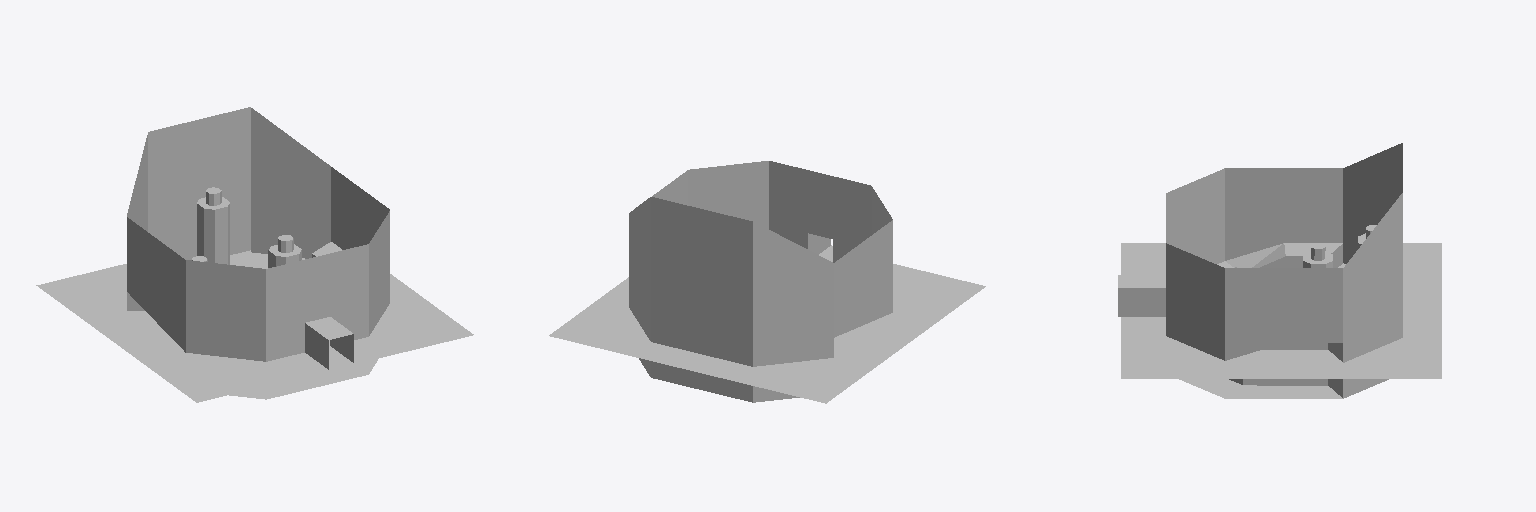
Rendered from BossRoom.obj.
The picture shows the model from 3 angles: view 1: azimuth 30°, elevation 25°; view 2: azimuth 150°, elevation 25°; view 3: azimuth 270°, elevation 25°; orthographic projection.
Visible parts, largest first — view 1: #Ice_Plane_None_IC-0x1F650_32x64_RGBA16.png, #Ice_Plane_None_IC-0x5EC78_32x32_RGBA16.png, #NoCollision_Plane.003_None, #Stone_Plane.002_None_IC-0x10EC0_32x32_RGBA16.png, Floor_#Ice_#DoubleSided_Plane.001_None_IC-0x60398_64x64_I8.png, #Ice_Plane_None_IC-0x10EC0_32x32_RGBA16.png; view 2: #Ice_Plane_None_IC-0x1F650_32x64_RGBA16.png, #Ice_Plane_None_IC-0x5EC78_32x32_RGBA16.png, #NoCollision_Plane.003_None; view 3: #Ice_Plane_None_IC-0x1F650_32x64_RGBA16.png, #NoCollision_Plane.003_None, #Ice_Plane_None_IC-0x5EC78_32x32_RGBA16.png, #Stone_Plane.002_None_IC-0x10EC0_32x32_RGBA16.png, Floor_#Ice_#DoubleSided_Plane.001_None_IC-0x60398_64x64_I8.png.
Part boxes in pixels (bbox=[...]): #Ice_Plane_None_IC-0x1F650_32x64_RGBA16.png: bbox=[127, 107, 389, 369]; #Ice_Plane_None_IC-0x5EC78_32x32_RGBA16.png: bbox=[127, 167, 389, 361]; #NoCollision_Plane.003_None: bbox=[36, 253, 473, 402]; #Stone_Plane.002_None_IC-0x10EC0_32x32_RGBA16.png: bbox=[229, 359, 377, 399]; Floor_#Ice_#DoubleSided_Plane.001_None_IC-0x60398_64x64_I8.png: bbox=[197, 197, 341, 345]; #Ice_Plane_None_IC-0x10EC0_32x32_RGBA16.png: bbox=[192, 187, 293, 261]; #Ice_Plane_None_IC-0x1F650_32x64_RGBA16.png: bbox=[629, 161, 892, 322]; #Ice_Plane_None_IC-0x5EC78_32x32_RGBA16.png: bbox=[629, 221, 892, 402]; #NoCollision_Plane.003_None: bbox=[549, 264, 985, 403]; #Ice_Plane_None_IC-0x1F650_32x64_RGBA16.png: bbox=[1118, 143, 1402, 397]; #NoCollision_Plane.003_None: bbox=[1121, 243, 1441, 378]; #Ice_Plane_None_IC-0x5EC78_32x32_RGBA16.png: bbox=[1166, 208, 1402, 398]; #Stone_Plane.002_None_IC-0x10EC0_32x32_RGBA16.png: bbox=[1179, 379, 1342, 398]; Floor_#Ice_#DoubleSided_Plane.001_None_IC-0x60398_64x64_I8.png: bbox=[1217, 233, 1365, 267].
Bounding box in the file's own units: 1931 × 1204 × 1945.